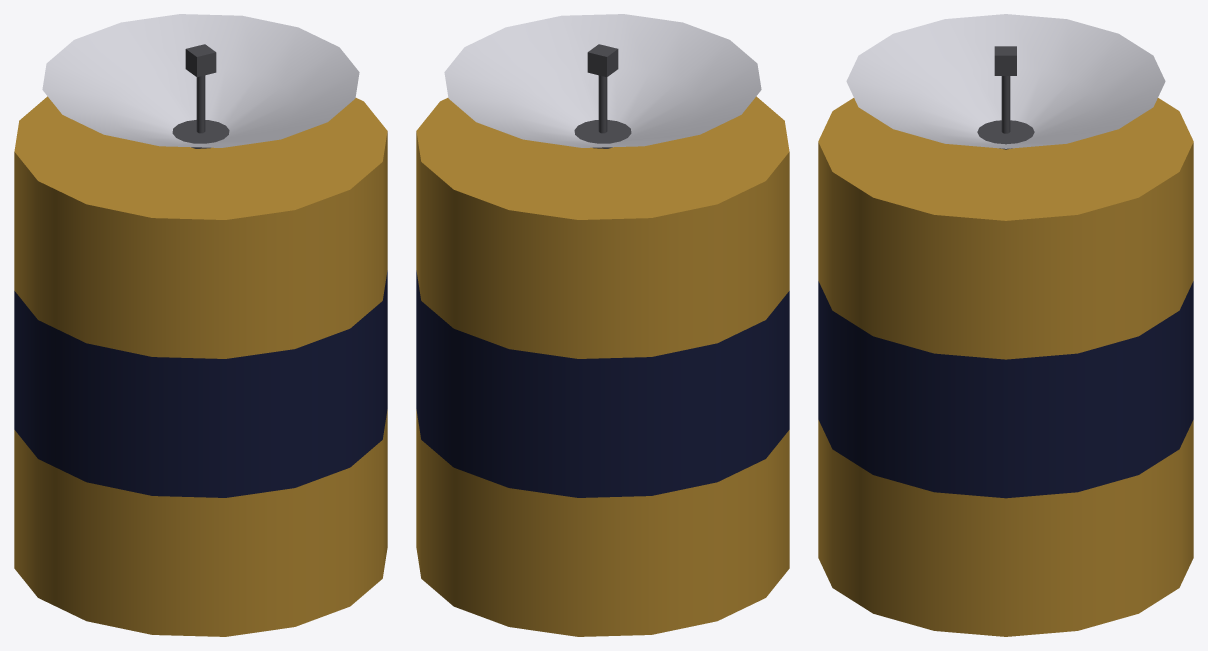
Rendered from gen-cyl-dish.obj.
The picture shows the model from 3 angles, left to right: view 1: azimuth 30°, elevation 25°; view 2: azimuth 150°, elevation 25°; view 3: azimuth 270°, elevation 25°; orthographic projection.
Visible parts, largest first — view 1: gen-cyl-dish; view 2: gen-cyl-dish; view 3: gen-cyl-dish.
Boxes of the visible parts, x1,y1,x2,y2 form: gen-cyl-dish: (14, 14, 387, 636); gen-cyl-dish: (416, 14, 789, 636); gen-cyl-dish: (818, 14, 1193, 636).
Bounding box in the file's own units: 1.8 × 2.68 × 1.8.
